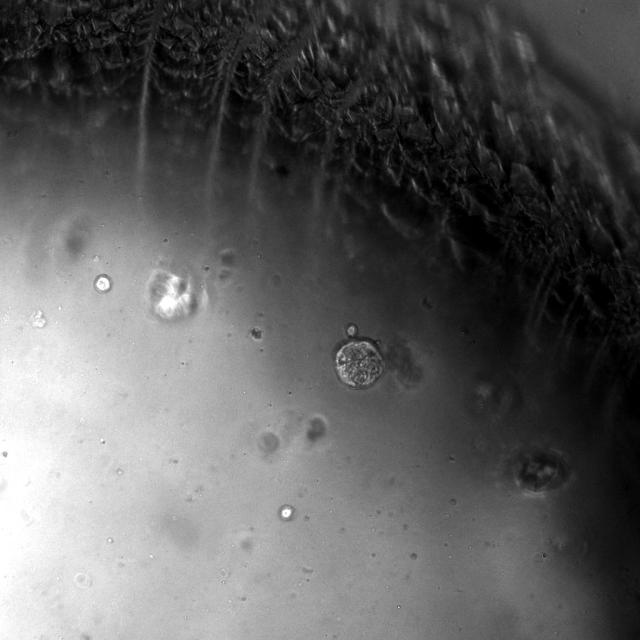organoid: (334, 323, 384, 389), (512, 446, 570, 493)
